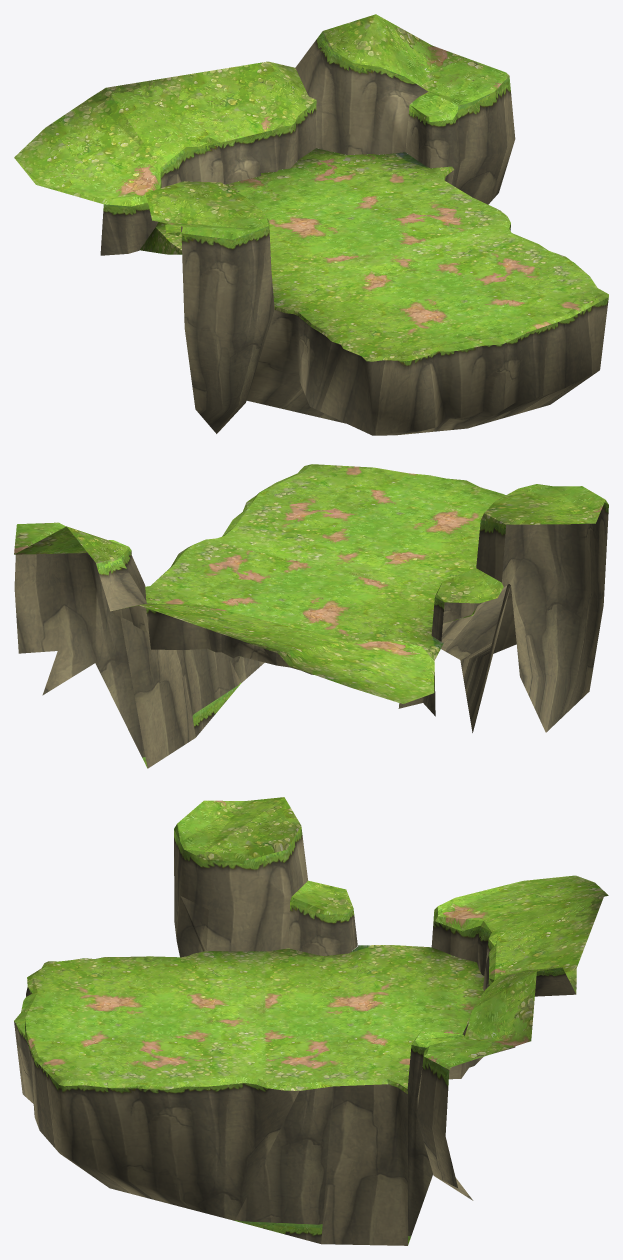
Rendered from Battlebacks_07.FBX.
3 renders of one model, top to bottom at view 1: azimuth 30°, elevation 25°; view 2: azimuth 150°, elevation 25°; view 3: azimuth 270°, elevation 25°, orthographic. The views are drawn at different scales.
Visible parts, largest first — view 1: Battlebacks_07, Battlebacks_07_A; view 2: Battlebacks_07, Battlebacks_07_A; view 3: Battlebacks_07, Battlebacks_07_A.
Part boxes in pixels (<box>): Battlebacks_07: <box>14,14,608,361</box>; Battlebacks_07_A: <box>100,31,608,435</box>; Battlebacks_07: <box>14,464,608,705</box>; Battlebacks_07_A: <box>14,502,608,768</box>; Battlebacks_07: <box>14,797,608,1093</box>; Battlebacks_07_A: <box>14,826,575,1245</box>.
Size of the model in its own units: 4412 by 2524 by 4821.
